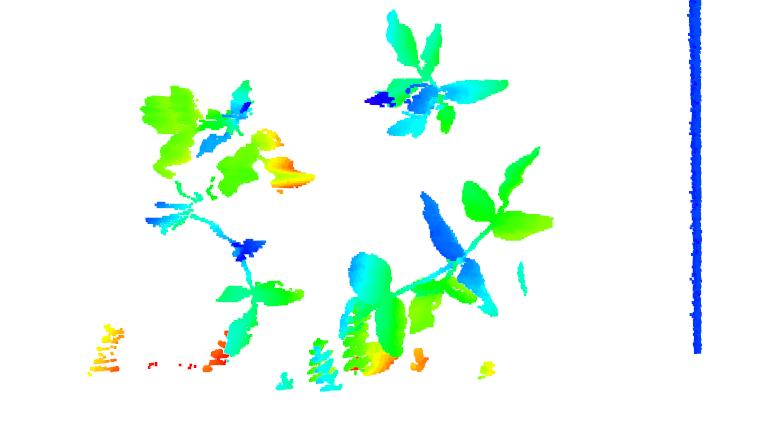mungbean: (337, 140, 550, 358), (150, 194, 308, 371), (136, 80, 318, 192), (364, 11, 510, 140)
